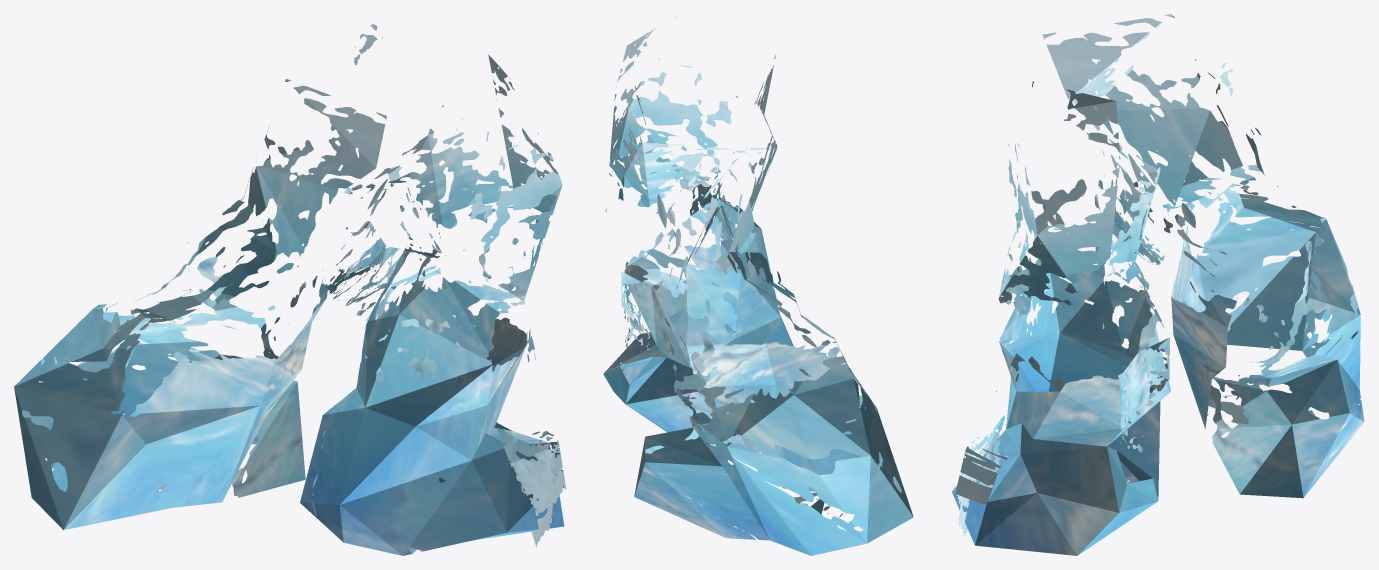
Rendered from wolverine_feet_iced.glb.
The picture shows the model from 3 angles, left to right: view 1: azimuth 30°, elevation 25°; view 2: azimuth 150°, elevation 25°; view 3: azimuth 270°, elevation 25°; orthographic projection. The views are drawn at different scales.
Visible parts, largest first — view 1: wolverine_feet_iced_0; view 2: wolverine_feet_iced_0; view 3: wolverine_feet_iced_0.
Part boxes in pixels (x1,y1,x2,y2): wolverine_feet_iced_0: (14, 24, 566, 555); wolverine_feet_iced_0: (603, 15, 913, 555); wolverine_feet_iced_0: (951, 14, 1364, 555).
Size of the model in its own units: 37 by 38.69 by 31.46.
1 material, 1 textured.
